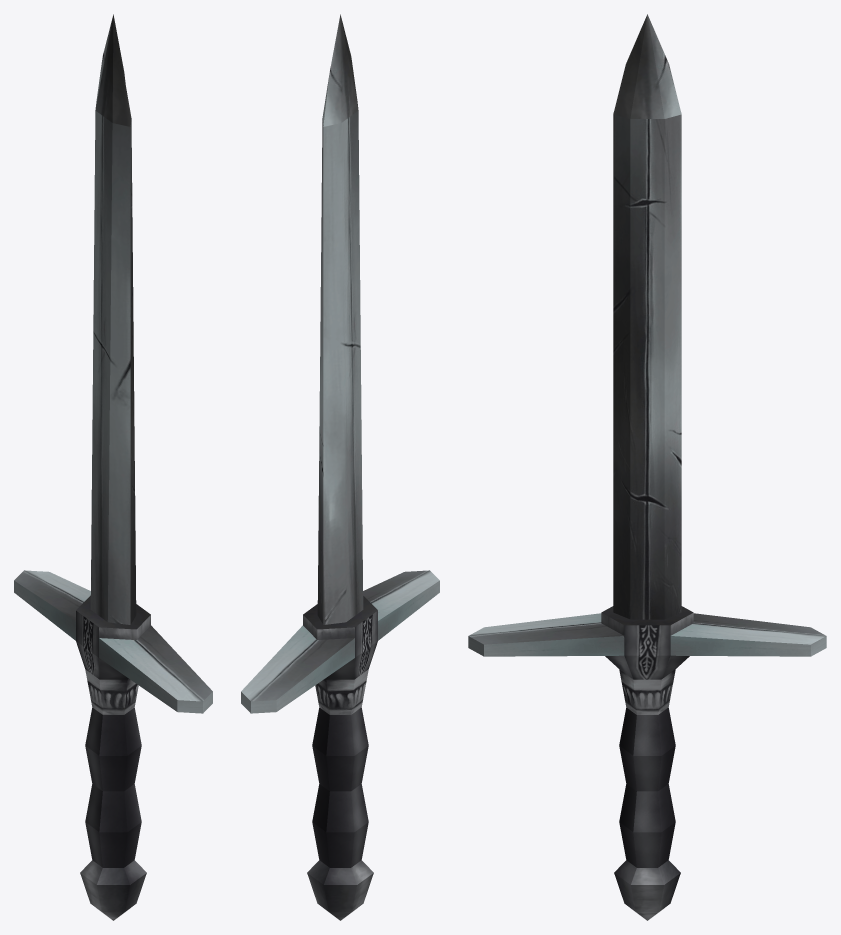
The model's file is LowPoly_Tomedelic_Dagger.fbx.
3 views of the same model, side by side, from view 1: azimuth 30°, elevation 25°; view 2: azimuth 150°, elevation 25°; view 3: azimuth 270°, elevation 25° (orthographic).
Parts seen in each view (by area): view 1: Cylinder; view 2: Cylinder; view 3: Cylinder.
Part boxes in pixels (x1=…): Cylinder: x1=14, y1=14, x2=212, y2=920; Cylinder: x1=241, y1=14, x2=439, y2=920; Cylinder: x1=468, y1=14, x2=826, y2=920.
Size of the model in its own units: 0.5375 by 8.94 by 3.2.
